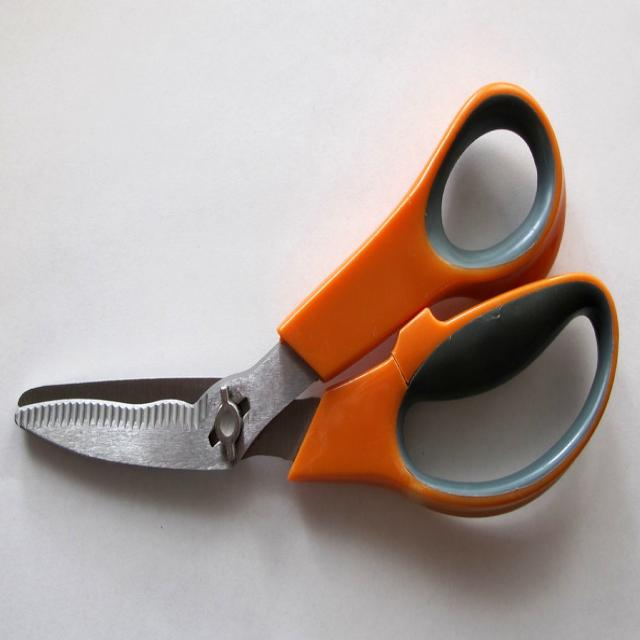scissors: (14, 80, 618, 517)
